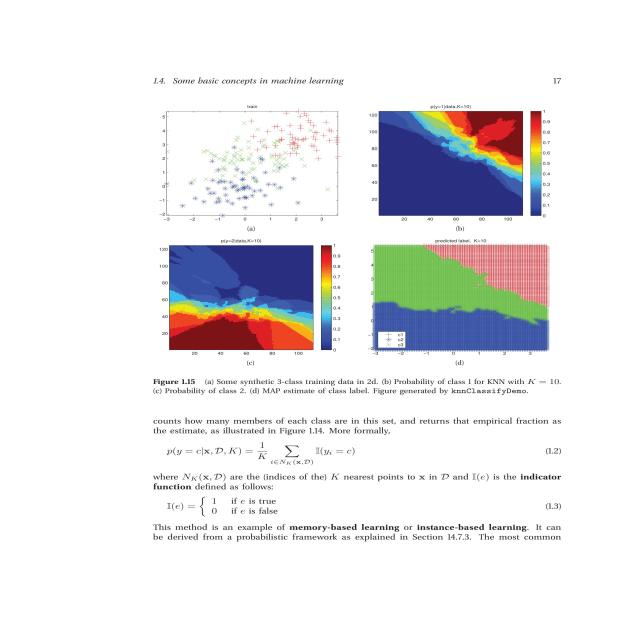diagram: (148, 93, 612, 411)
